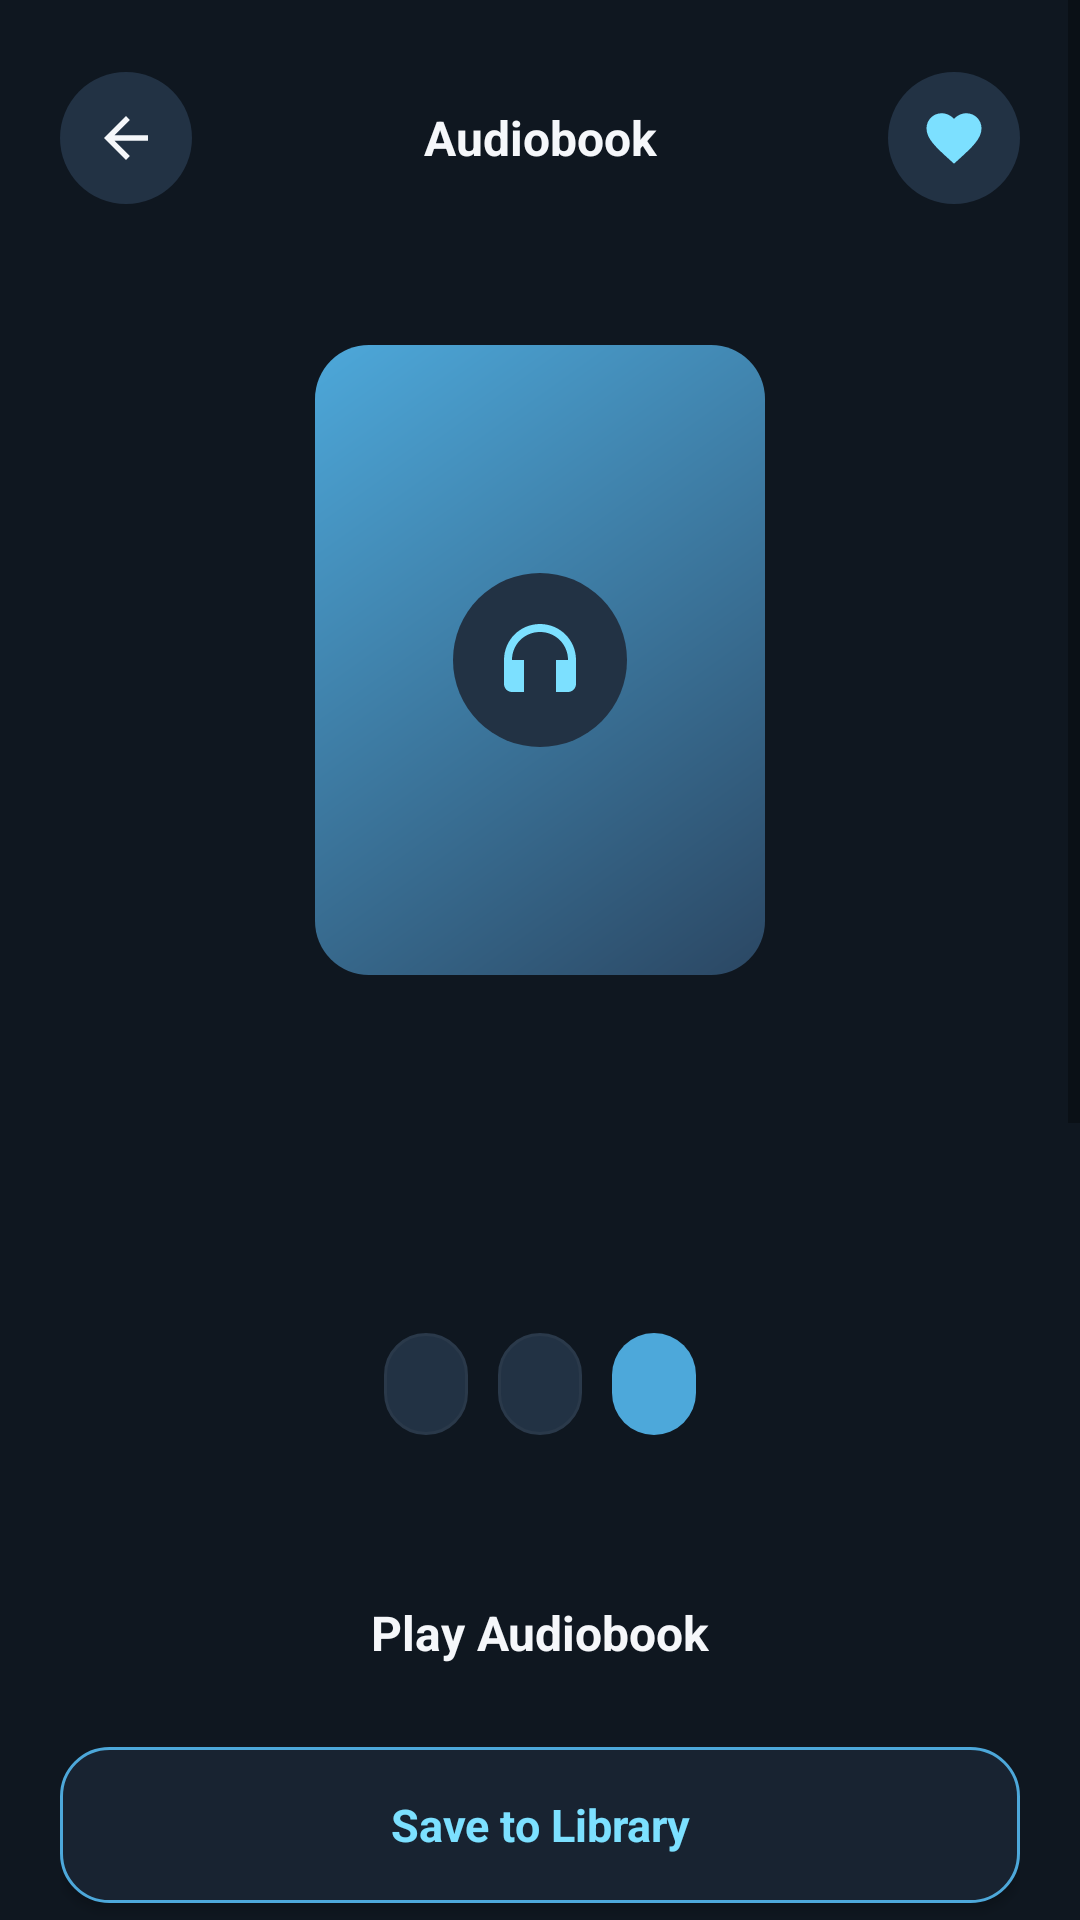

Icons on this 1080*1920 Android screen, each with its box as {"x1": x1, "y1": y1, "x2": x2, "y2": y2}:
Audiobook: {"x1": 453, "y1": 573, "x2": 627, "y2": 747}
Back: {"x1": 60, "y1": 72, "x2": 192, "y2": 204}
Favorite: {"x1": 888, "y1": 72, "x2": 1020, "y2": 204}
